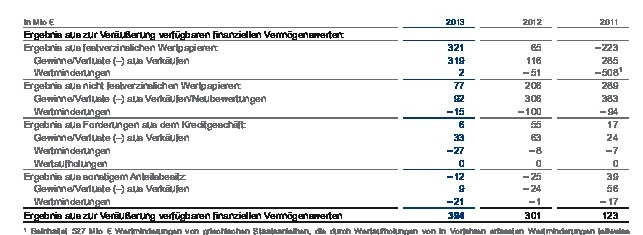table: (0, 0, 643, 235)
